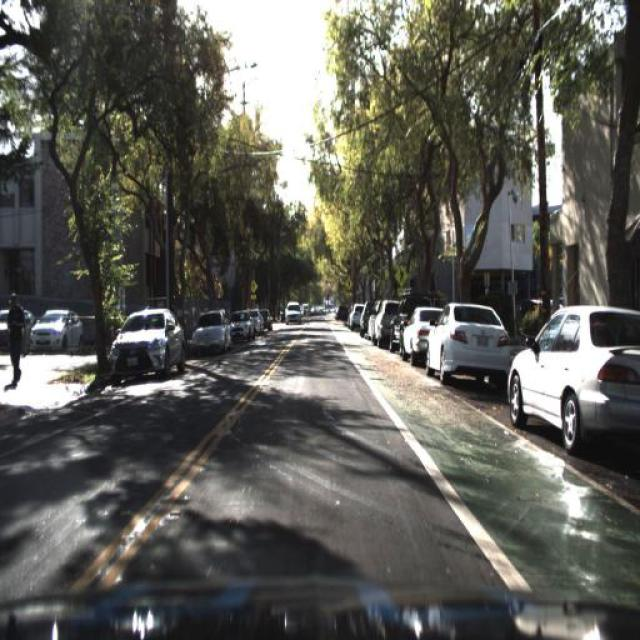car: (503, 305, 639, 445), (422, 303, 506, 382), (108, 306, 186, 374), (27, 309, 85, 356), (190, 310, 234, 360), (285, 302, 301, 326)
trafficLight: (6, 291, 23, 389)
